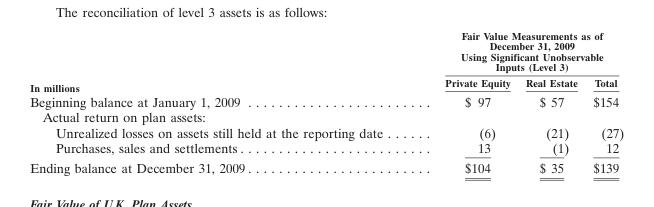table: (29, 29, 623, 175)
table column: (29, 29, 413, 175), (413, 29, 517, 175), (517, 29, 584, 175), (584, 29, 623, 175)
table column header: (29, 29, 623, 93)
table projected row header: (29, 109, 623, 124)
table row: (29, 29, 623, 74), (29, 74, 623, 93), (29, 139, 623, 157), (29, 157, 623, 175), (29, 93, 623, 109), (29, 109, 623, 124), (29, 124, 623, 139)
table spanning cell: (29, 29, 413, 93), (413, 29, 623, 74)
